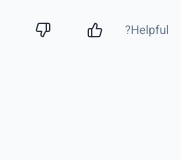
OutputFeedback › shows thanks message after positive feedback with null pairId
Click the button named "Positive feedback" at (95, 30), box [73,8,117,52]
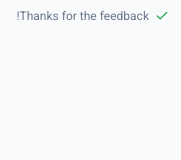
expect the text "Thanks for the feedback!" is shown: met, box [16,8,149,24]
